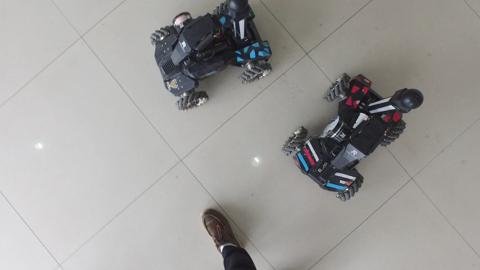chariot: (285, 69, 429, 212), (147, 1, 280, 119)
